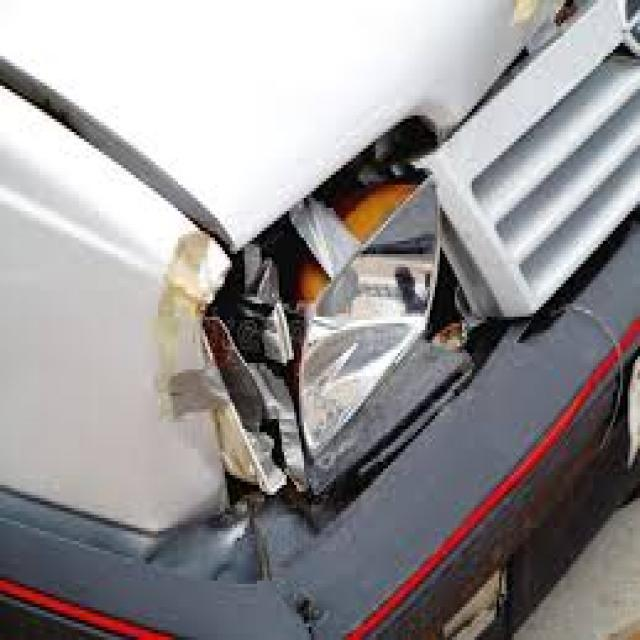damaged-head-light: (206, 151, 460, 455)
